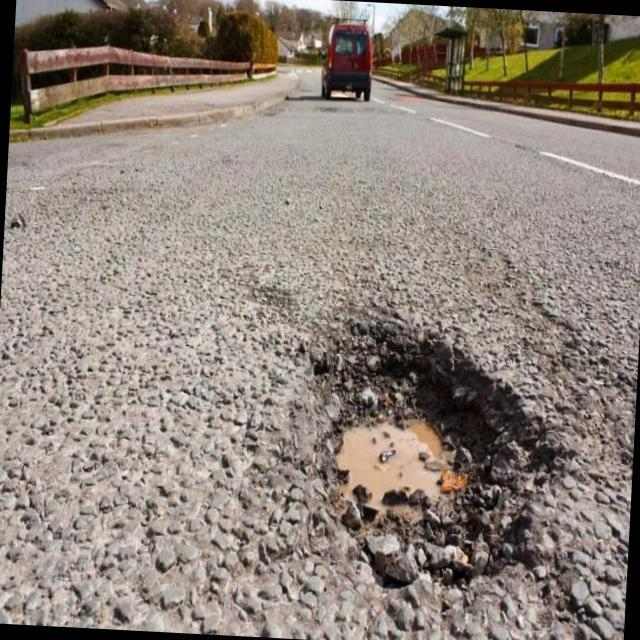Pothole: (308, 314, 550, 640)
